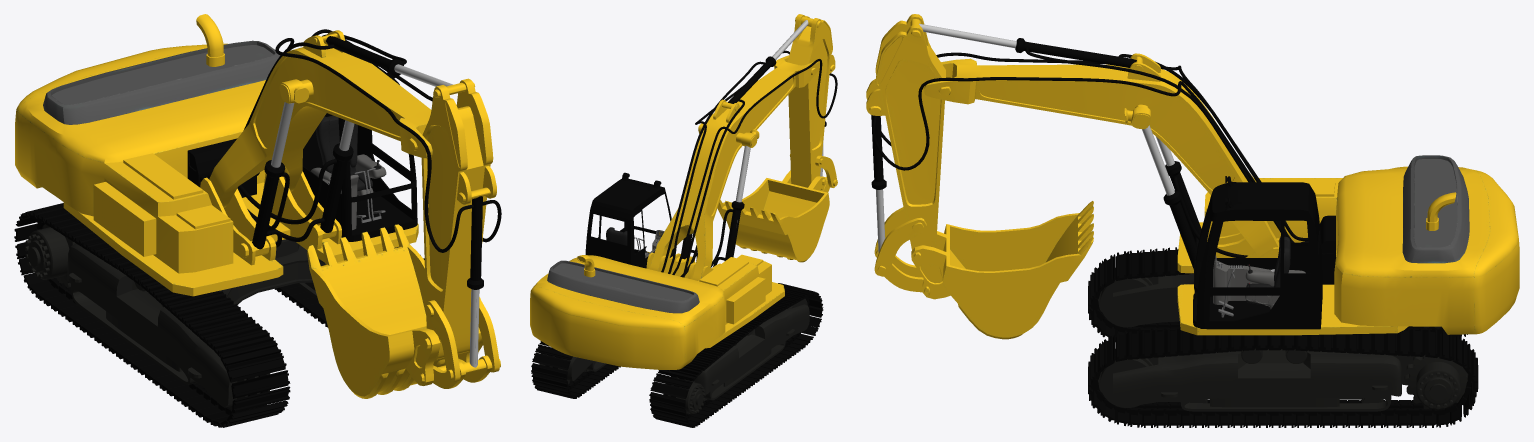
Rendered from excavator.glb.
The picture shows the model from 3 angles, left to right: view 1: azimuth 30°, elevation 25°; view 2: azimuth 150°, elevation 25°; view 3: azimuth 270°, elevation 25°; orthographic projection. The views are drawn at different scales.
Visible parts, largest first — view 1: Object_3, Object_7, Object_4, Object_5, Object_2, Object_6; view 2: Object_3, Object_7, Object_4, Object_5, Object_2, Object_6; view 3: Object_3, Object_4, Object_7, Object_2, Object_5, Object_6.
Part boxes in pixels (<box>): Object_3: <box>15,14,500,398</box>; Object_7: <box>14,203,424,427</box>; Object_4: <box>25,224,325,409</box>; Object_5: <box>187,29,501,367</box>; Object_2: <box>302,64,417,241</box>; Object_6: <box>310,115,386,230</box>; Object_3: <box>530,14,837,369</box>; Object_7: <box>531,283,823,427</box>; Object_4: <box>538,298,809,414</box>; Object_5: <box>661,20,837,277</box>; Object_2: <box>585,172,674,268</box>; Object_6: <box>606,227,664,257</box>; Object_3: <box>866,14,1519,339</box>; Object_4: <box>1098,273,1471,411</box>; Object_7: <box>1088,247,1478,427</box>; Object_2: <box>1193,176,1322,329</box>; Object_5: <box>871,23,1335,284</box>; Object_6: <box>1213,236,1305,317</box>.
Size of the model in its own units: 3.88 by 5.95 by 9.92.
6 materials, 6 textured.
